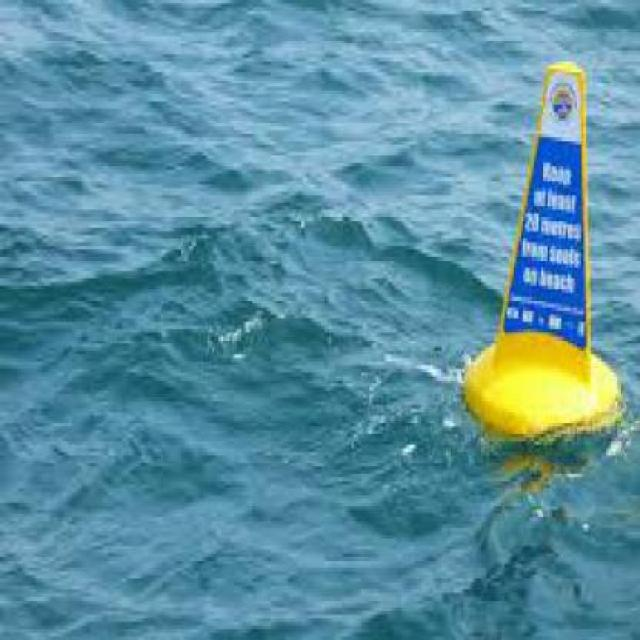buoy: (452, 44, 630, 461)
